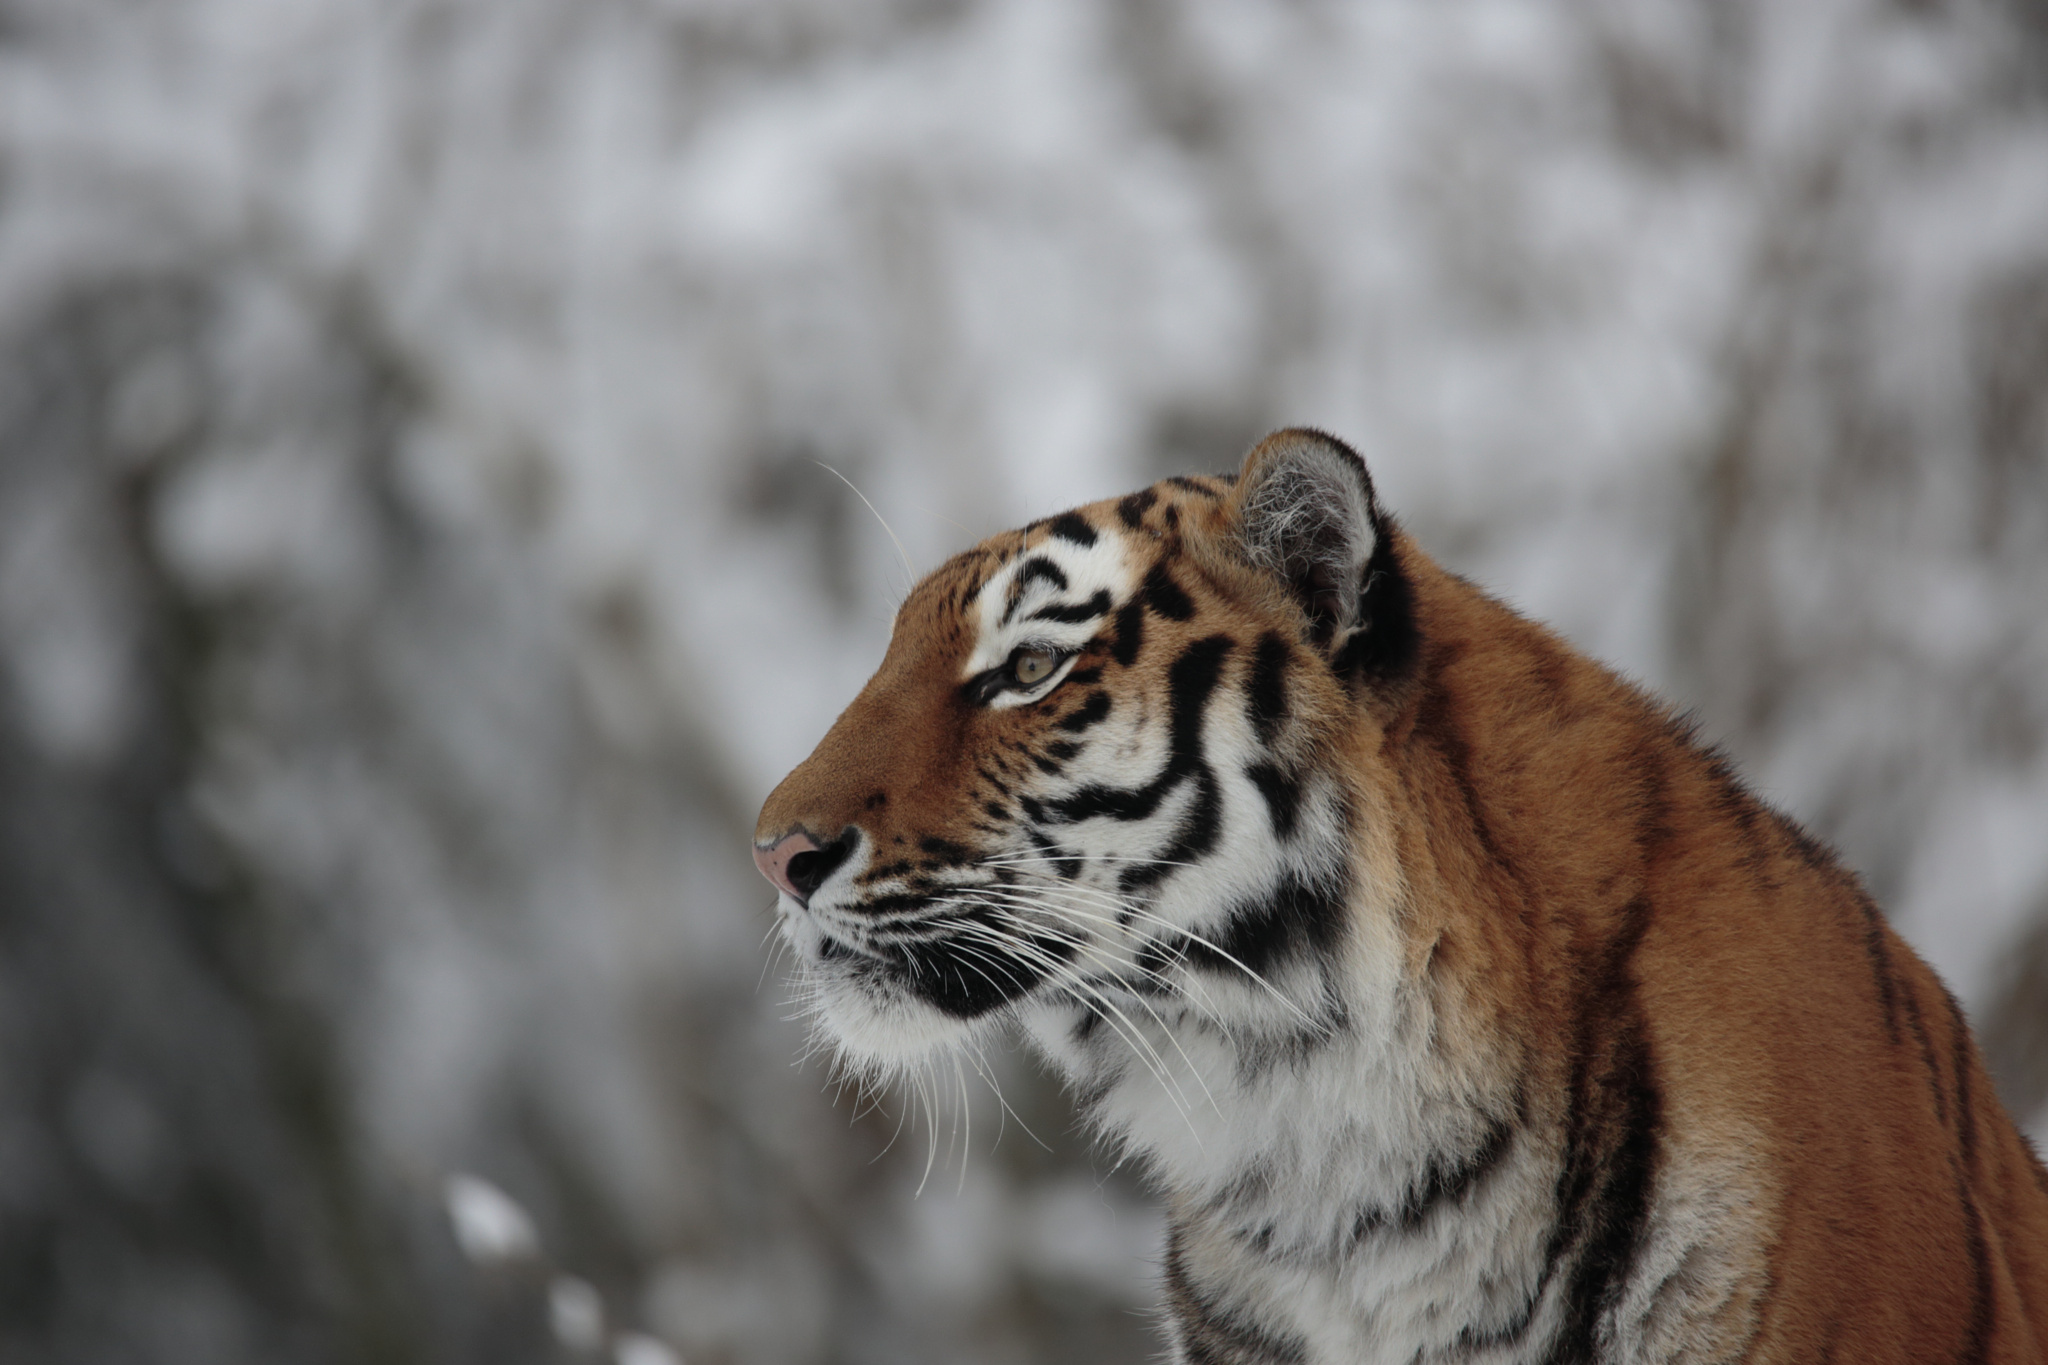tiger: (700, 472, 1983, 1309)
